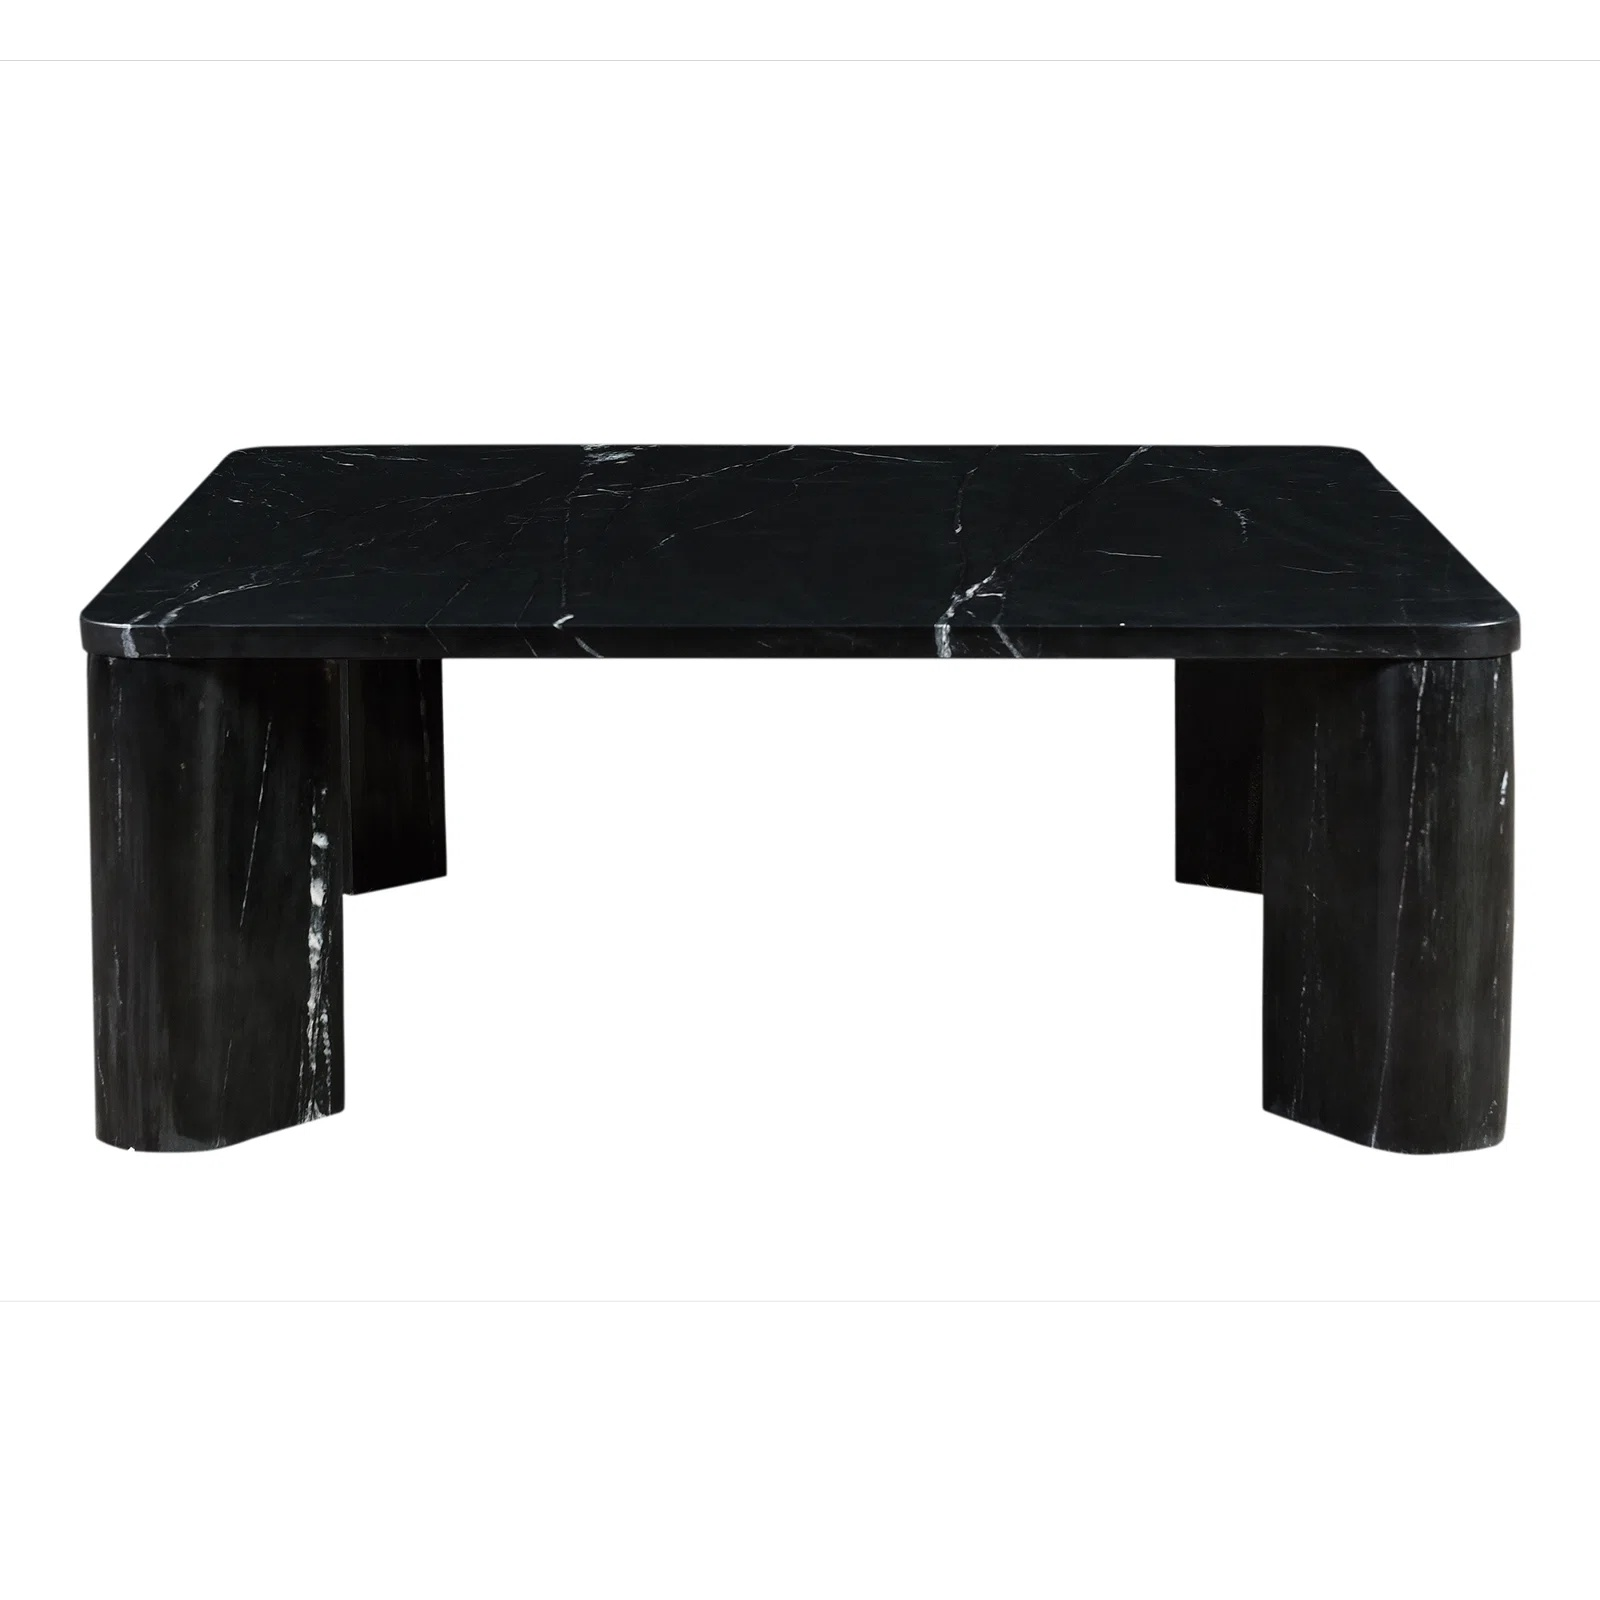obstacle: (82, 445, 1518, 1152)
